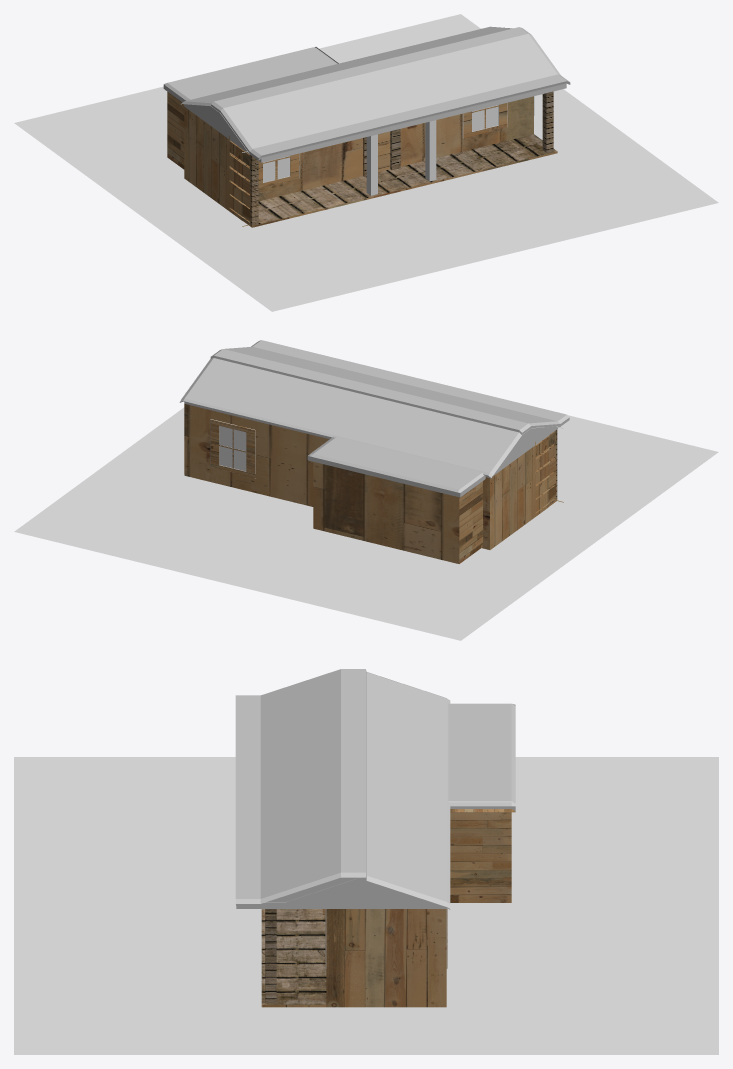
File: casaBusch.fbx
3 renders of one model, top to bottom at view 1: azimuth 30°, elevation 25°; view 2: azimuth 150°, elevation 25°; view 3: azimuth 270°, elevation 25°, orthographic. The views are drawn at different scales.
Parts seen in each view (by area): view 1: Plane, Cube; view 2: Plane, Cube; view 3: Plane, Cube.
Boxes of the visible parts, box(x1,y1,x2,y2) form: Plane: box(14, 14, 718, 311); Cube: box(163, 26, 570, 227); Plane: box(14, 407, 718, 640); Cube: box(179, 340, 569, 563); Plane: box(14, 757, 718, 1054); Cube: box(235, 669, 515, 1007).
Size of the model in its own units: 5054 by 1078 by 5054.
